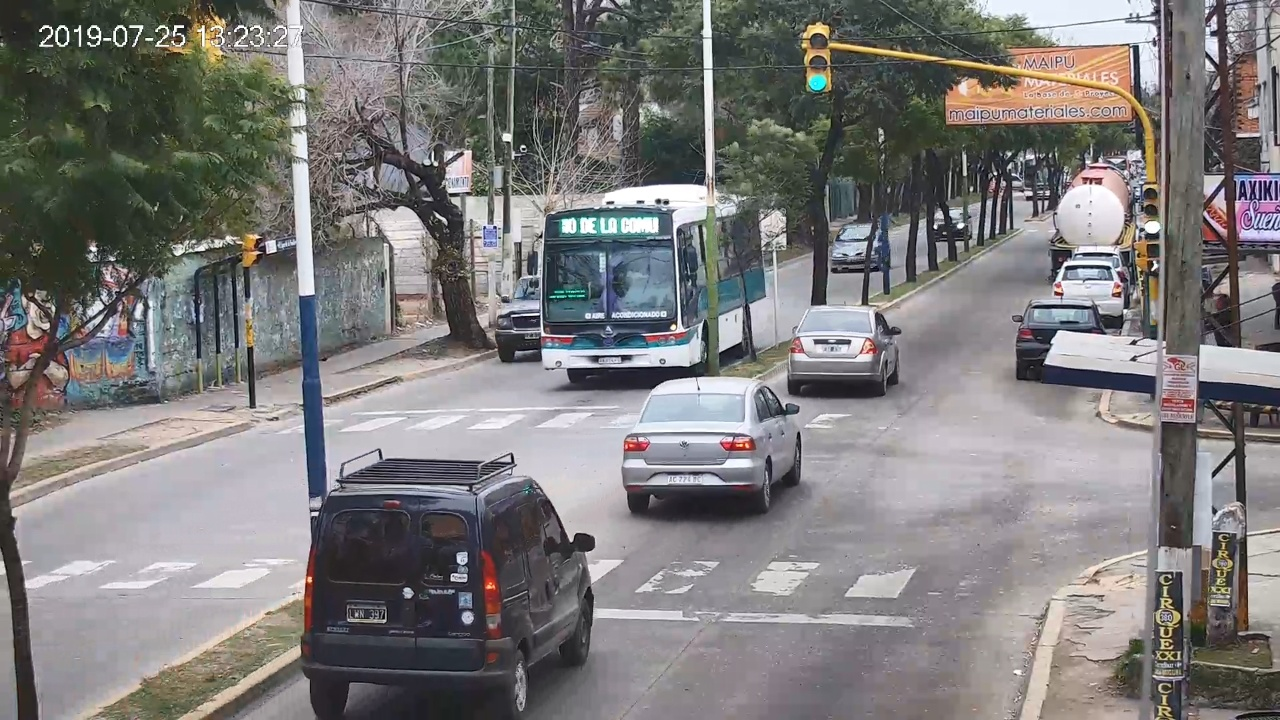car: (301, 464, 596, 720), (622, 377, 803, 511), (788, 305, 901, 394)
traffic light: (807, 26, 830, 92), (1143, 184, 1160, 235)
